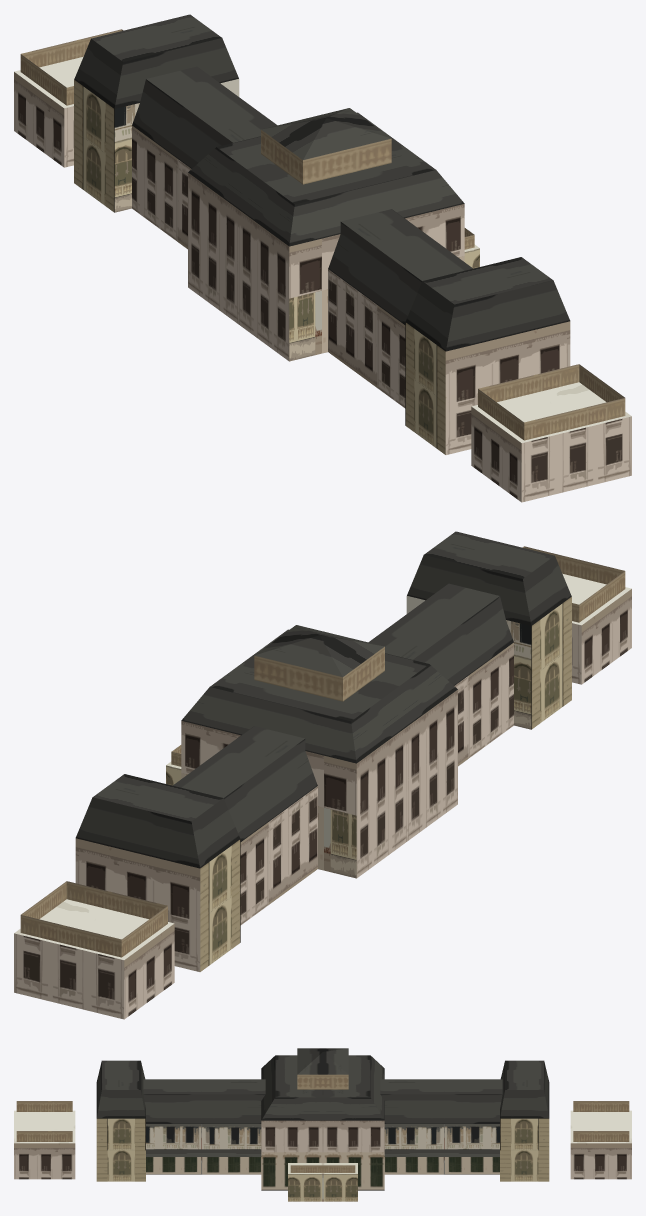
Rendered from SM_Building_Train_Station_01.fbx.
3 renders of one model, top to bottom at view 1: azimuth 30°, elevation 25°; view 2: azimuth 150°, elevation 25°; view 3: azimuth 270°, elevation 25°, orthographic. The views are drawn at different scales.
Parts seen in each view (by area): view 1: SM_Building_Train_Station_01; view 2: SM_Building_Train_Station_01; view 3: SM_Building_Train_Station_01.
Part boxes in pixels (x1,y1,x2,y2): SM_Building_Train_Station_01: [14, 14, 631, 502]; SM_Building_Train_Station_01: [14, 531, 631, 1019]; SM_Building_Train_Station_01: [14, 1048, 631, 1201].
Bounding box in the file's own units: 25.74 × 21.38 × 106.
